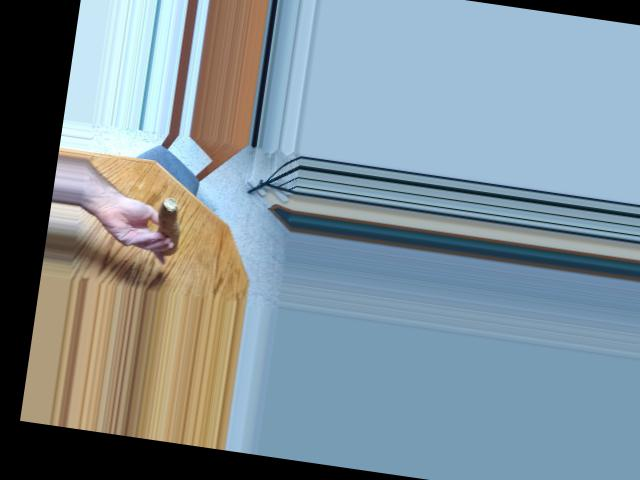sweet_potato: (151, 205, 183, 254)
